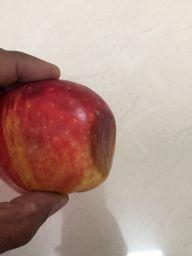Apple Semirotten: (0, 76, 119, 198)
